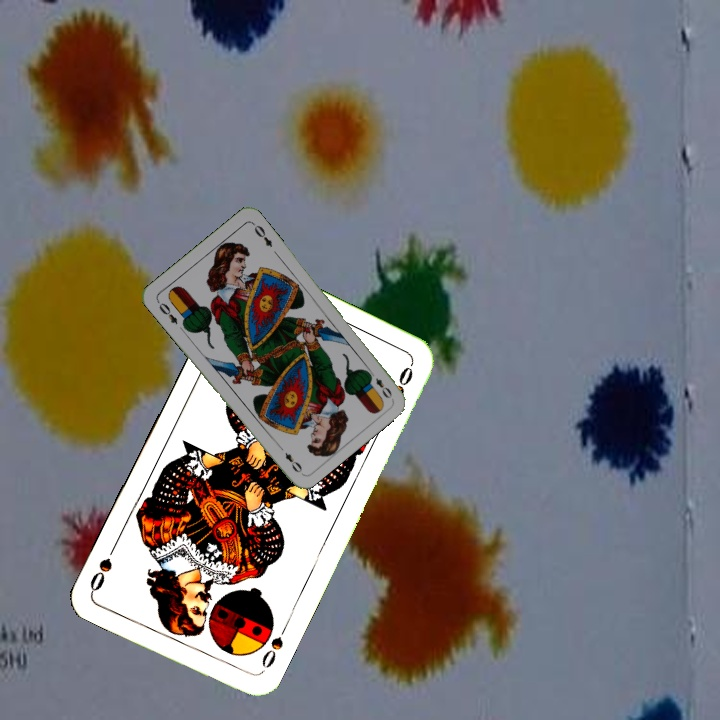EO: (365, 367, 395, 401), (153, 297, 180, 327)
SO: (257, 622, 290, 671)
